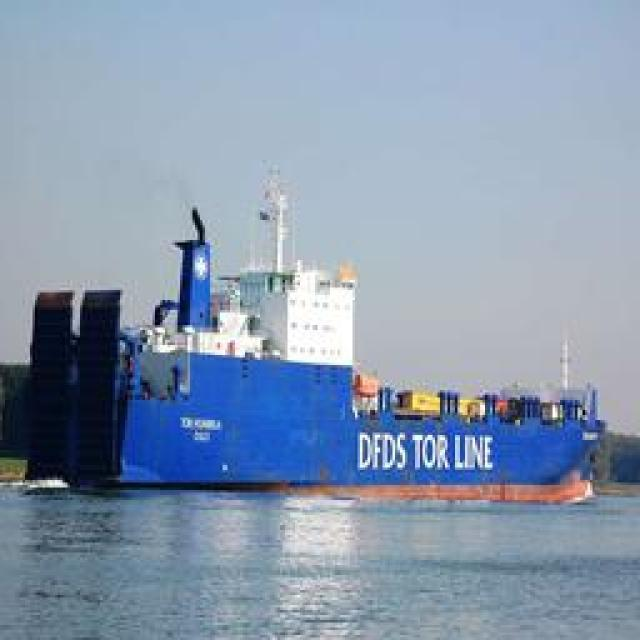CIV_Ship: (51, 138, 601, 504)
